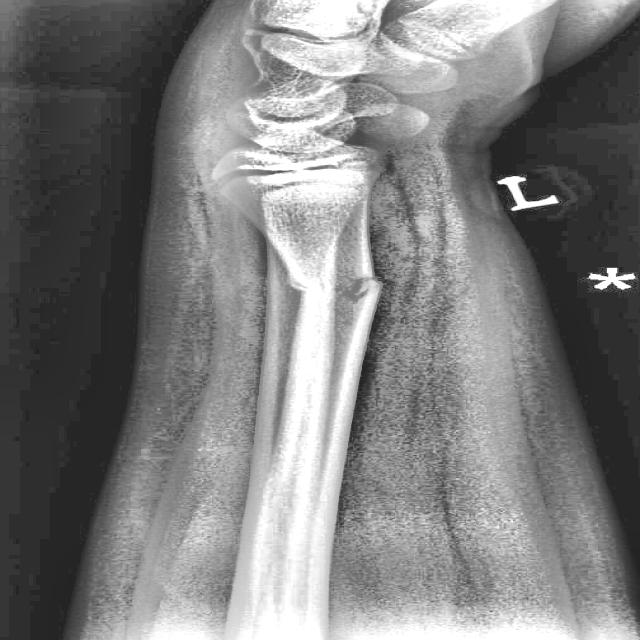angle: (335, 274, 385, 304), (286, 276, 335, 299)
